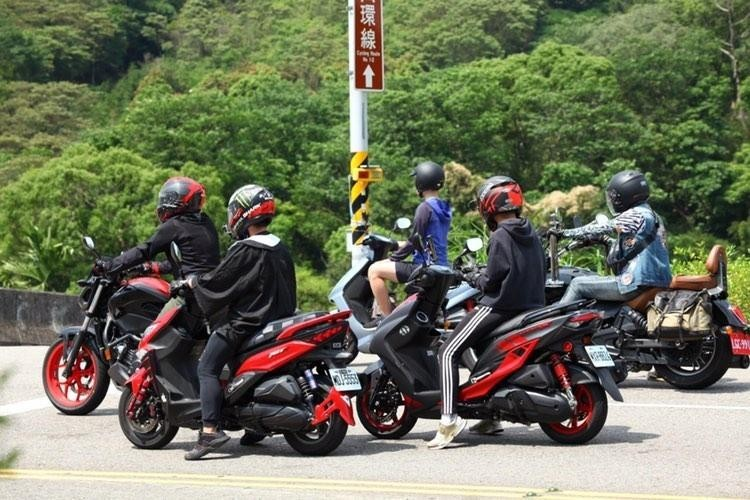people: (453, 158, 552, 431), (198, 183, 295, 461), (578, 171, 678, 325), (137, 176, 223, 286), (385, 157, 452, 289)
